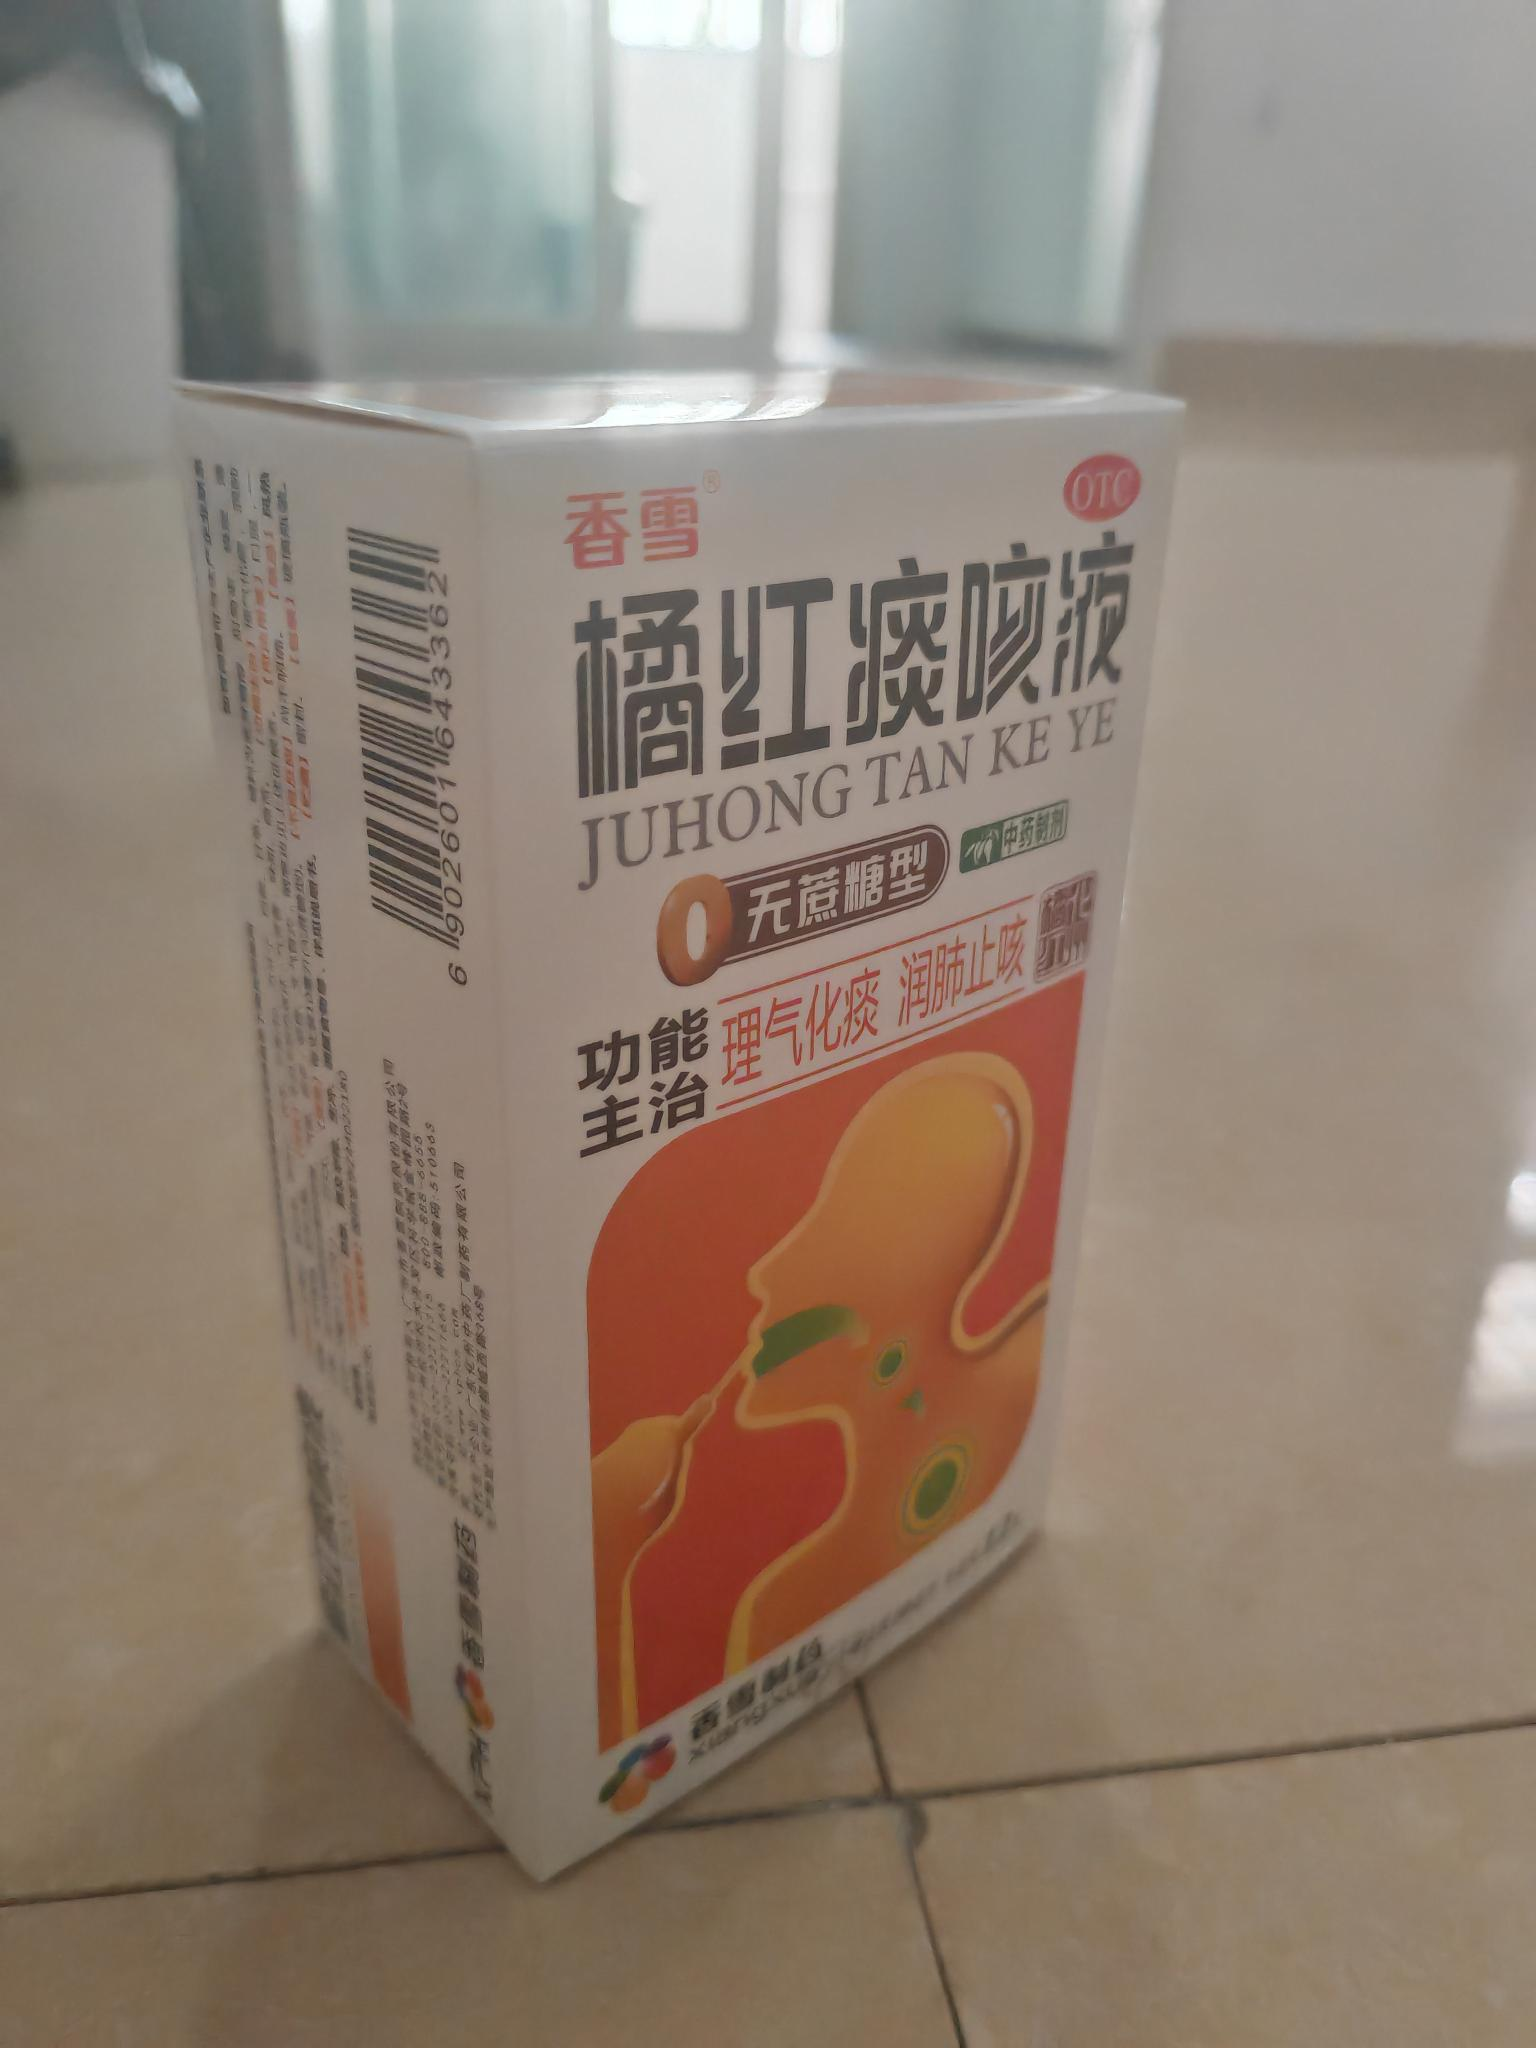Medicine1: (160, 339, 1221, 1900)
